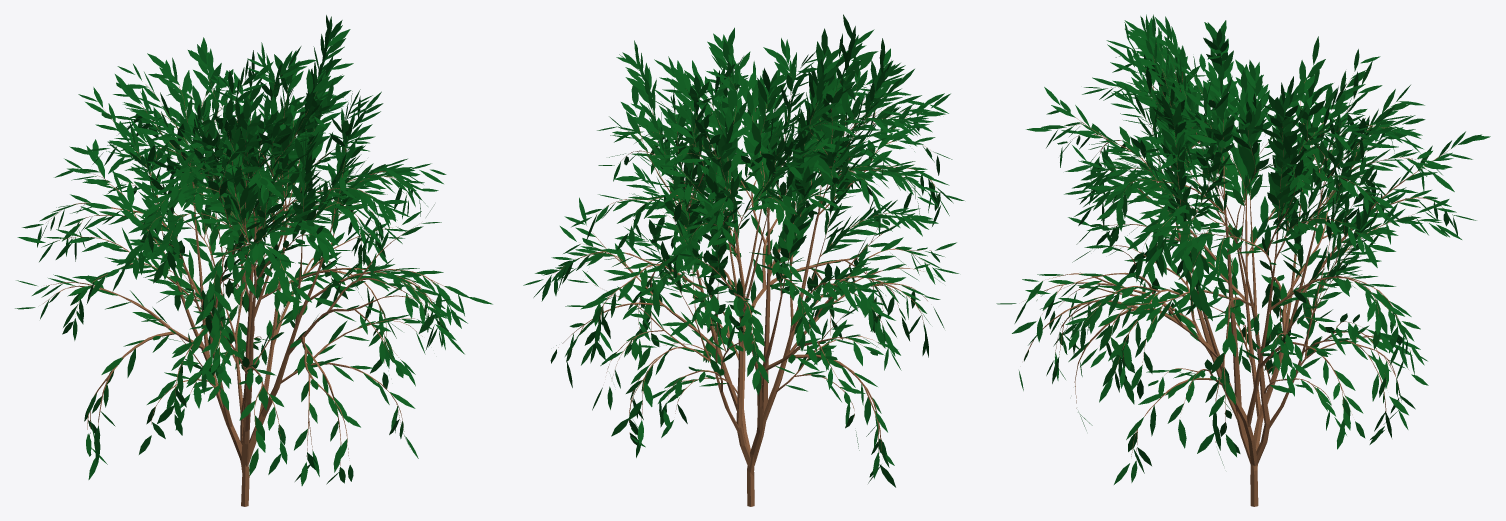
File: Tree_2.glb
3 views of the same model, side by side, from view 1: azimuth 30°, elevation 25°; view 2: azimuth 150°, elevation 25°; view 3: azimuth 270°, elevation 25° (orthographic). The views are drawn at different scales.
Visible parts, largest first — view 1: Tree 2; view 2: Tree 2; view 3: Tree 2.
Boxes of the visible parts, <box> form: Tree 2: <box>15,15,492,506</box>; Tree 2: <box>523,14,964,506</box>; Tree 2: <box>996,14,1490,506</box>.
Size of the model in its own units: 1.58 by 1.9 by 1.82.
